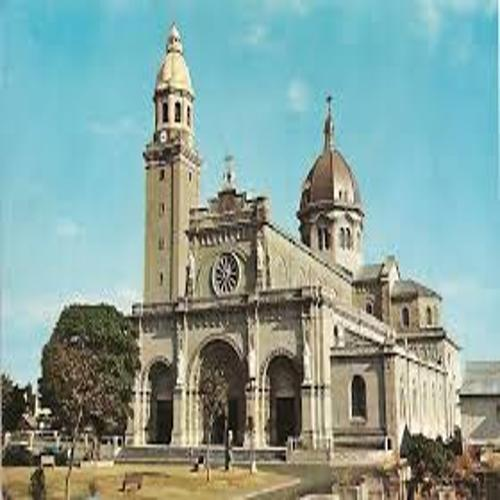Manila Cathedral Church: (114, 8, 462, 473)
